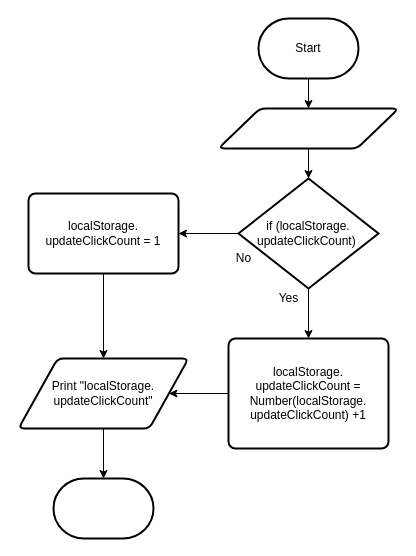
Some shapes in this 416 by 556 pixel diagram are drawn without their labels. Here are the shapes that lost their labels. From the top down, the box of each, then its label:
(217, 107, 399, 149): Get updateClickCount
(52, 477, 154, 539): Stop
